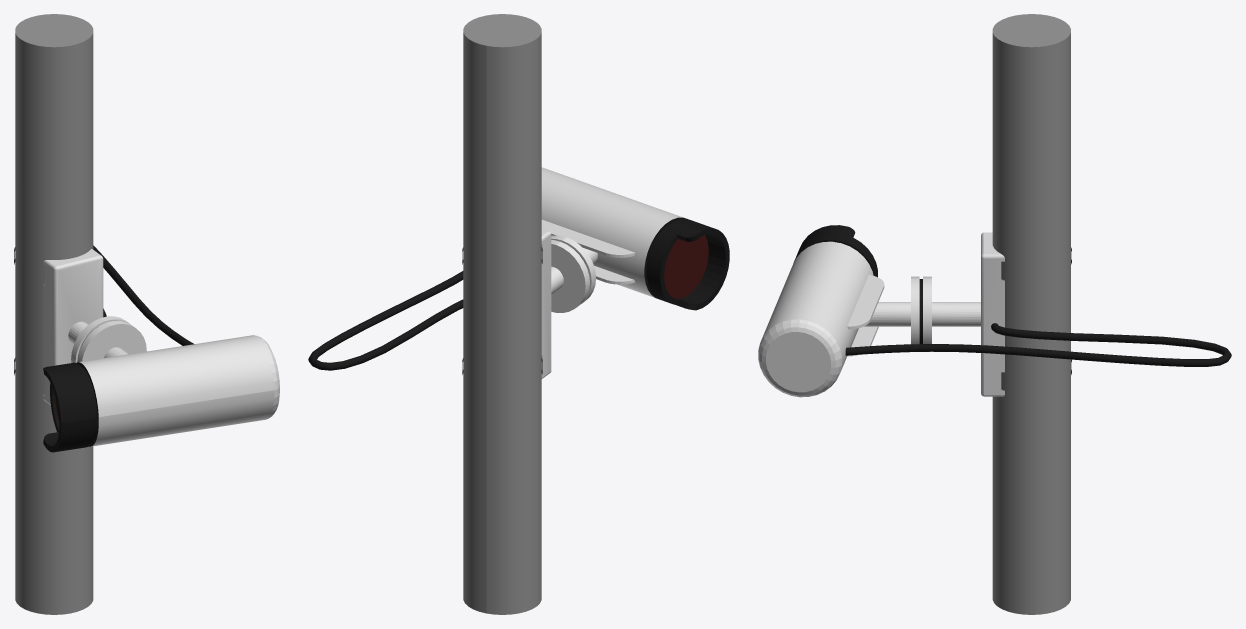
File: streetcamera3.obj
3 views of the same model, side by side, from view 1: azimuth 30°, elevation 25°; view 2: azimuth 150°, elevation 25°; view 3: azimuth 270°, elevation 25° (orthographic).
Visible parts, largest first — view 1: traffic_c2; view 2: traffic_c2; view 3: traffic_c2.
Boxes of the visible parts, x1=… form: traffic_c2: x1=14, y1=14, x2=279, y2=614; traffic_c2: x1=308, y1=14, x2=729, y2=614; traffic_c2: x1=758, y1=14, x2=1231, y2=614.
Bounding box in the file's own units: 7.81 × 19.9 × 15.05.
